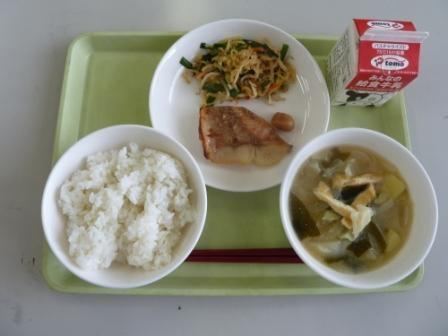Fish: (188, 98, 290, 169)
Milk: (321, 12, 430, 111)
Rice: (41, 129, 206, 278)
Soups: (290, 131, 427, 284)
salad with sauce: (179, 32, 302, 97)
